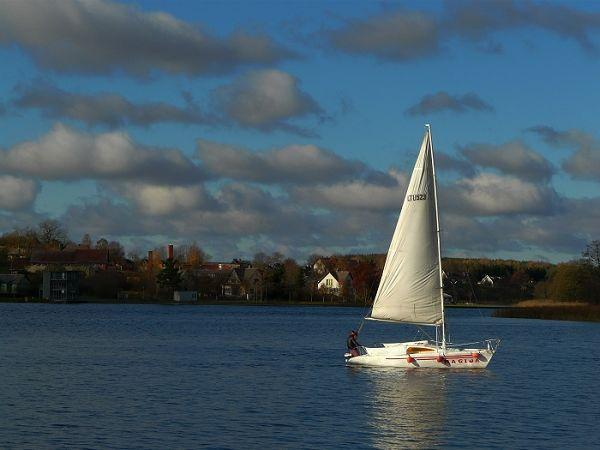fanchuan: (339, 124, 502, 368)
